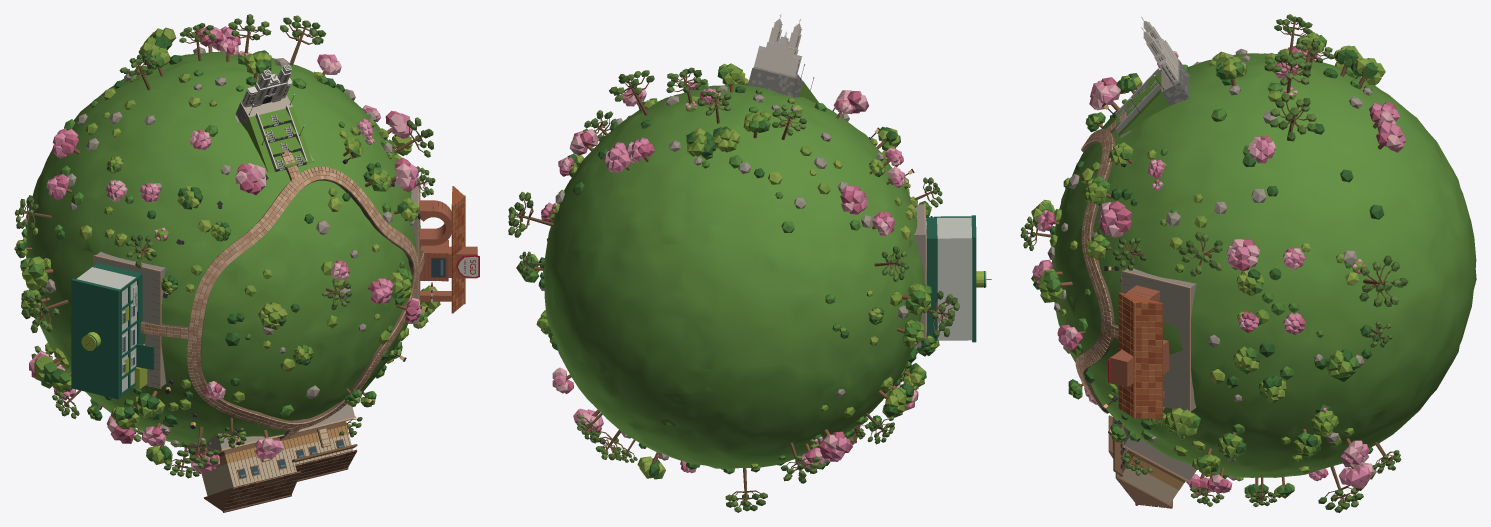
The model's file is sao-bento-planet.glb.
The picture shows the model from 3 angles, left to right: view 1: azimuth 30°, elevation 25°; view 2: azimuth 150°, elevation 25°; view 3: azimuth 270°, elevation 25°; orthographic projection. The views are drawn at different scales.
Visible parts, largest first — view 1: planet-terrain, planet-vegetation, landmark-univille, landmark-pauli, landmark-sgd, landmark-church; view 2: planet-terrain, planet-vegetation, landmark-univille, landmark-church; view 3: planet-terrain, planet-vegetation, landmark-sgd, landmark-pauli, landmark-church.
Part boxes in pixels (bbox=[...]): planet-terrain: bbox=[25, 47, 427, 445]; planet-vegetation: bbox=[14, 14, 440, 478]; landmark-univille: bbox=[71, 252, 166, 399]; landmark-pauli: bbox=[188, 404, 357, 512]; landmark-sgd: bbox=[408, 177, 479, 324]; landmark-church: bbox=[234, 62, 313, 173]; planet-terrain: bbox=[538, 83, 932, 468]; planet-vegetation: bbox=[508, 63, 959, 512]; landmark-univille: bbox=[914, 203, 991, 347]; landmark-church: bbox=[747, 14, 818, 102]; planet-terrain: bbox=[1047, 48, 1476, 480]; planet-vegetation: bbox=[1020, 14, 1408, 512]; landmark-sgd: bbox=[1108, 268, 1196, 419]; landmark-pauli: bbox=[1108, 415, 1196, 508]; landmark-church: bbox=[1115, 17, 1189, 137].
Bounding box in the file's own units: 14.79 × 15.06 × 13.45.
